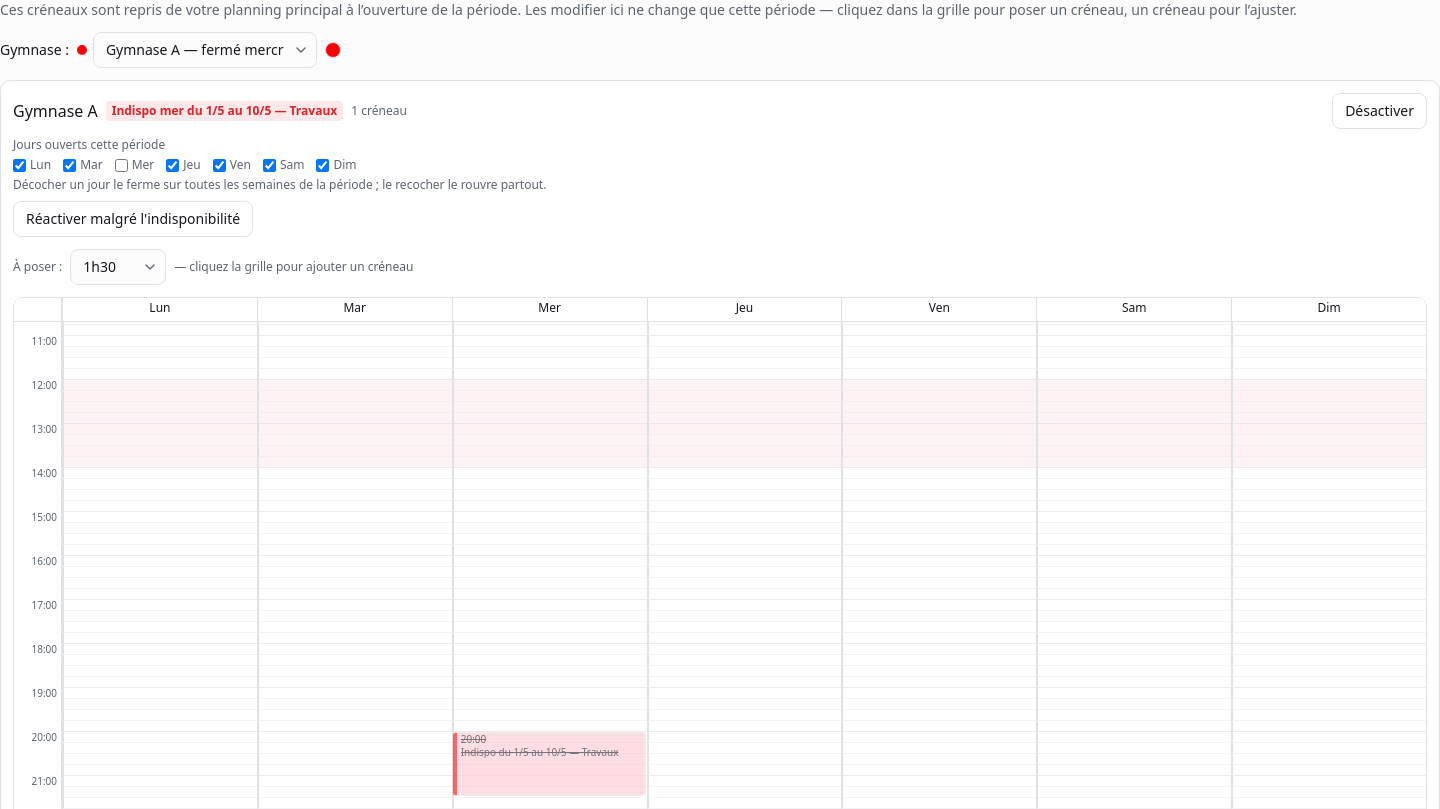
Test: PeriodSlotEditor — dit qu'un créneau tombe un jour fermé (P2-43 volet i) › indisponibilité déclarée : « Créneau inactif — le mercredi est fermé (indisponibilité déclarée…) »
The image size is (1440, 809).
(page scrolled)
Click the button titled "20:00 · Mer 1h30 · capacité 1 · Indispo du 1/5 au 10/5 — Tra": (549, 764) [453, 732, 646, 796]
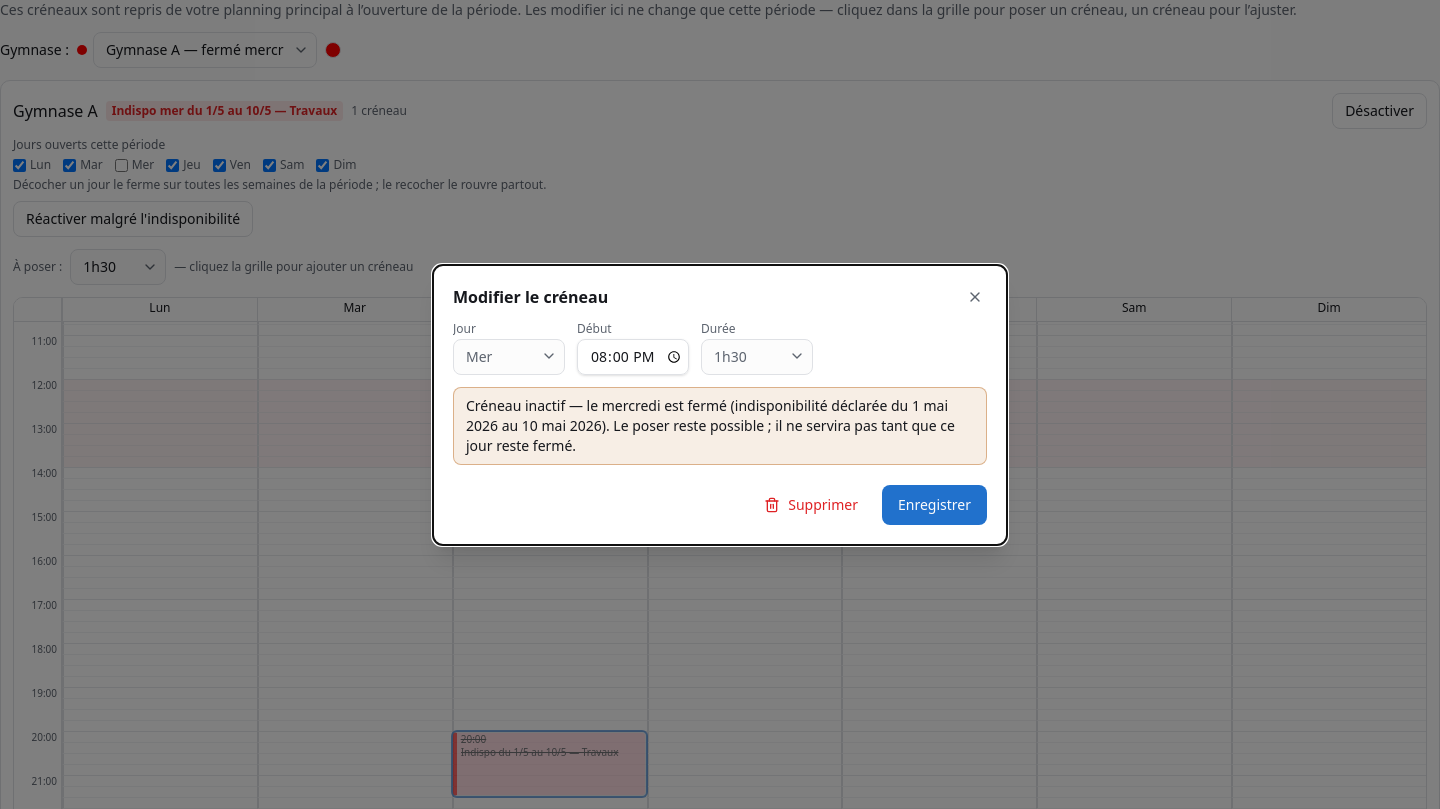
Result: the text "Créneau inactif — le mercredi est fermé" is shown at [453, 387, 987, 465]
Result: the text "indisponibilité déclarée" is shown at [466, 396, 948, 435]
Result: the button "Enregistrer" is enabled at [882, 485, 987, 525]
